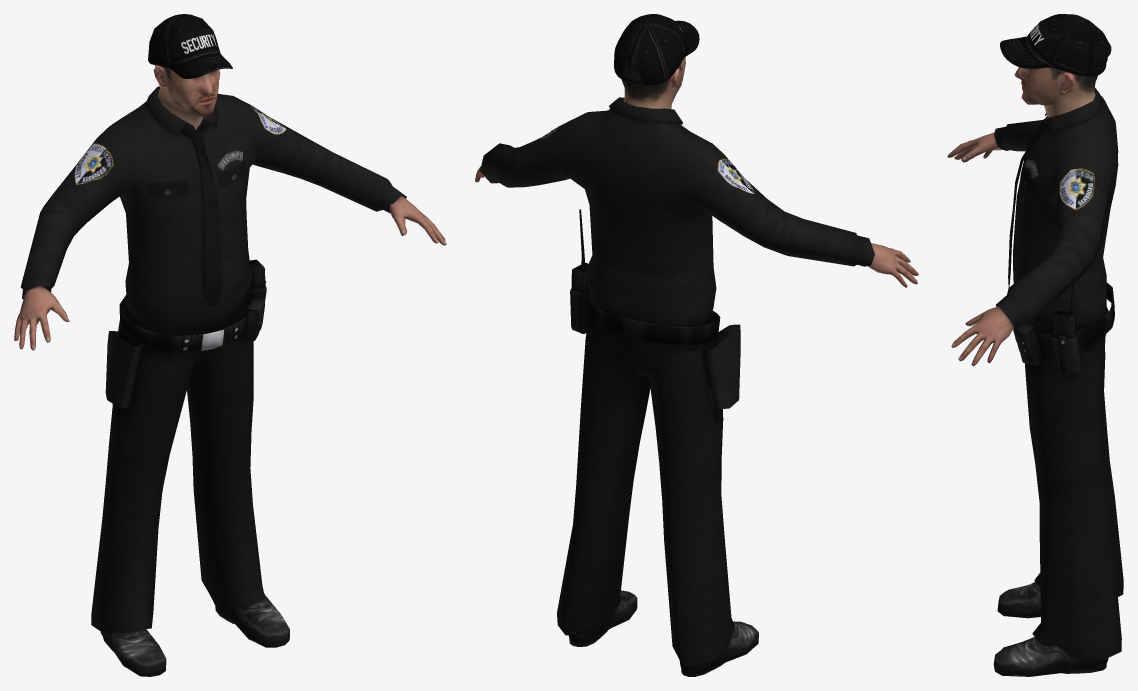
Rendered from SEC1LOD1NR.FBX.
3 views of the same model, side by side, from view 1: azimuth 30°, elevation 25°; view 2: azimuth 150°, elevation 25°; view 3: azimuth 270°, elevation 25° (orthographic).
Parts seen in each view (by area): view 1: Officer; view 2: Officer; view 3: Officer.
Boxes of the visible parts, x1,y1,x2,y2 form: Officer: (14,14,446,676); Officer: (475,14,918,676); Officer: (947,14,1123,676).
Size of the model in its own units: 52.87 by 73.03 by 18.74.
2 materials, 2 textured.
